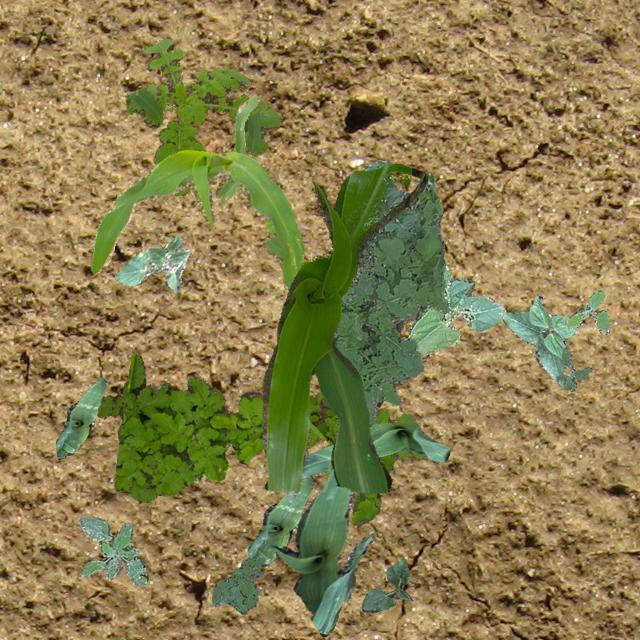crop: (260, 163, 427, 492), (90, 94, 304, 294), (270, 467, 372, 636), (286, 422, 448, 501), (406, 260, 504, 354), (502, 294, 580, 386), (246, 476, 314, 566), (114, 234, 188, 292), (54, 378, 106, 458), (361, 558, 412, 612)
weed: (114, 352, 396, 524), (332, 160, 450, 424), (124, 36, 280, 194), (307, 392, 425, 462), (78, 514, 148, 586), (210, 556, 264, 614), (564, 290, 610, 334), (95, 379, 127, 438), (554, 346, 590, 391)
